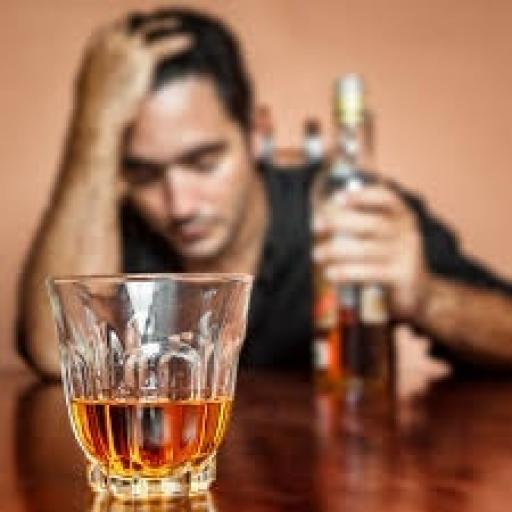drinking: (43, 268, 253, 498), (305, 70, 398, 437)
